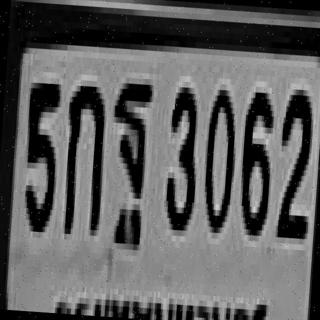A01: (59, 74, 107, 230)
A16: (104, 74, 151, 230)
N00: (200, 83, 238, 228)
N02: (274, 83, 314, 233)
N03: (162, 81, 200, 225)
N05: (19, 76, 61, 227)
N06: (236, 86, 274, 230)
